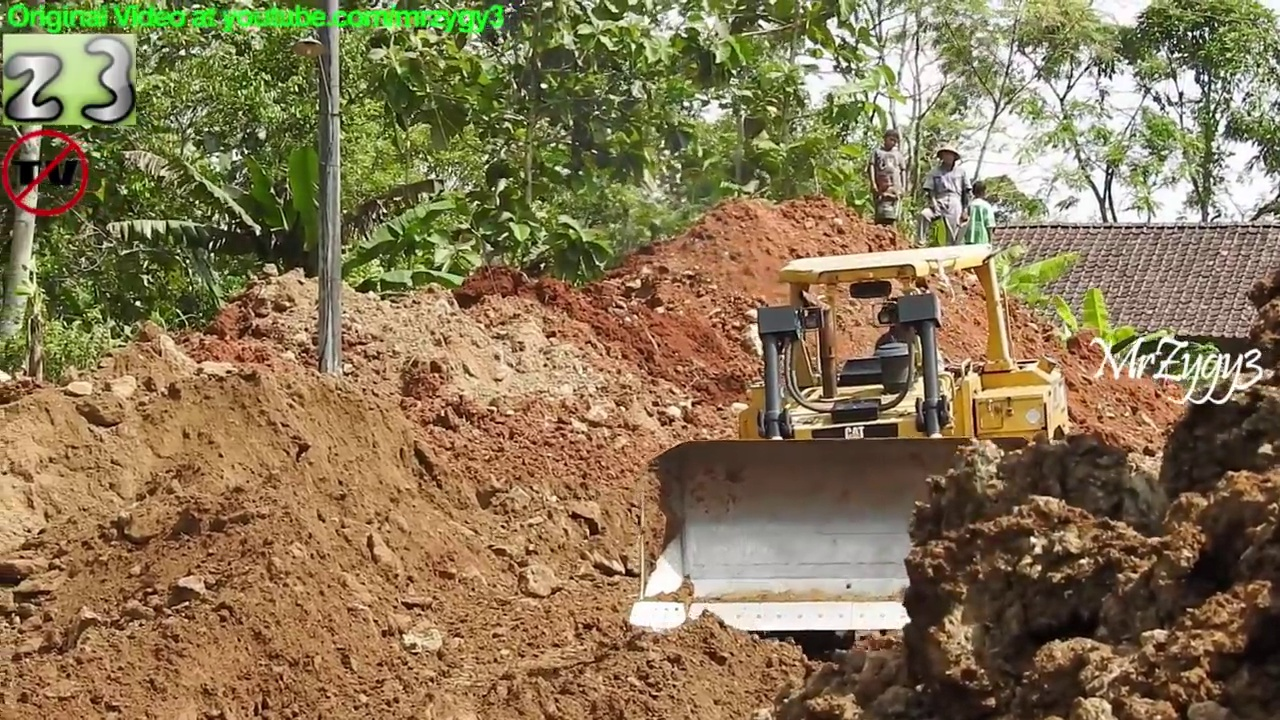bulldozer: (638, 234, 1060, 641)
person: (922, 142, 969, 242), (870, 130, 905, 223), (973, 179, 995, 246)
